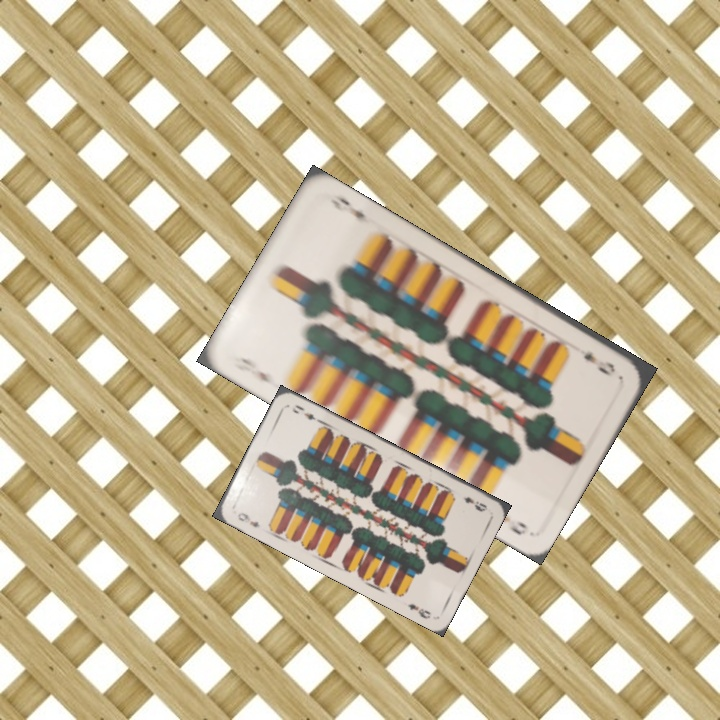E9: (229, 352, 278, 391), (579, 348, 619, 379), (233, 508, 262, 530), (460, 493, 490, 514)
